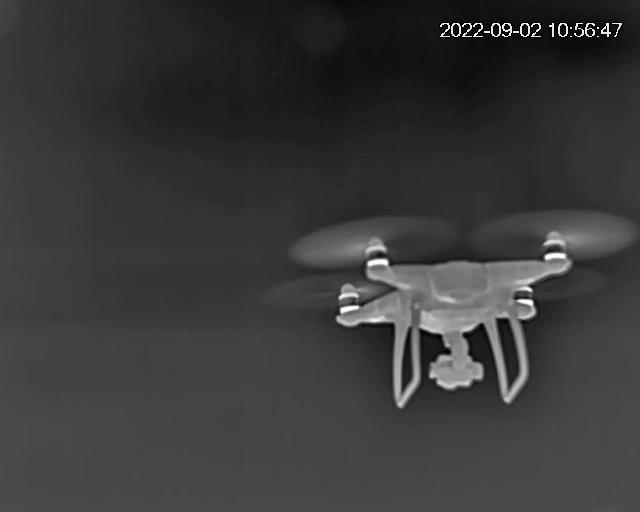DJI-Phantom: (327, 224, 586, 407)
